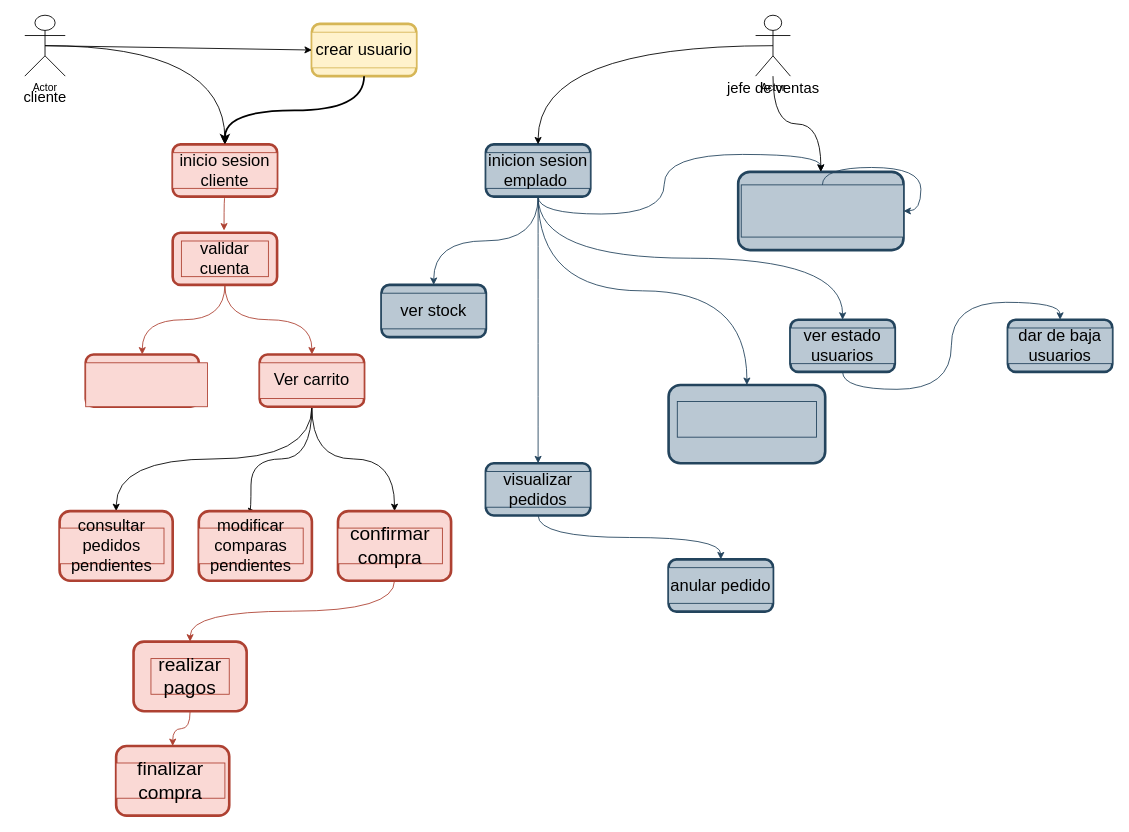
Some shapes in this 1129 by 832 pixel diagram are drawn without their labels. Here are the shapes that lost their labels. From the top down, the centre of each, then its label:
At [821,210]: "acceder a repoerts mas avanzados".
At [146,384]: "añadir producto al carrito".
At [746,419]: "gestionar correos o contactos de notificacion".
